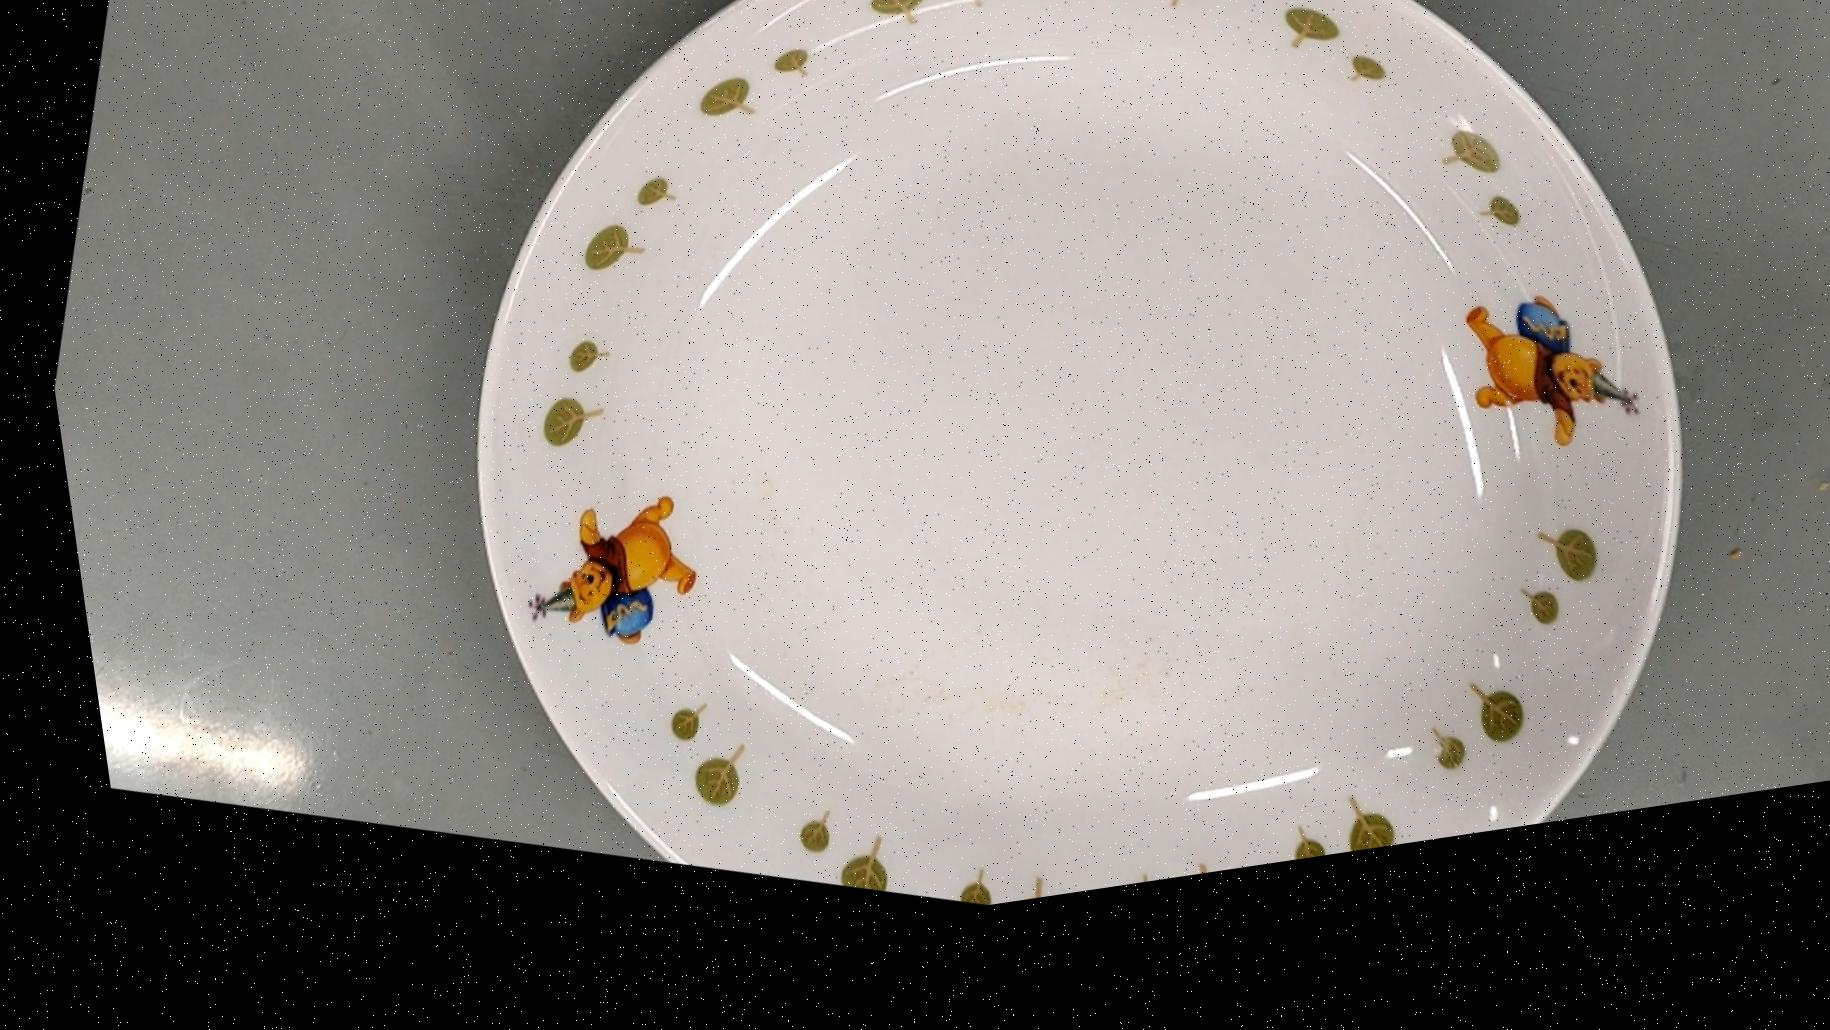plate: (297, 0, 1830, 995)
